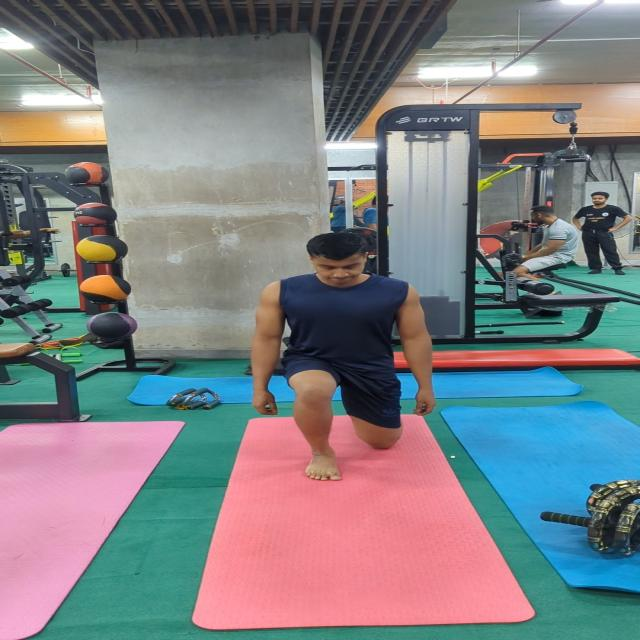Normal_Lunges: (246, 231, 442, 481)
